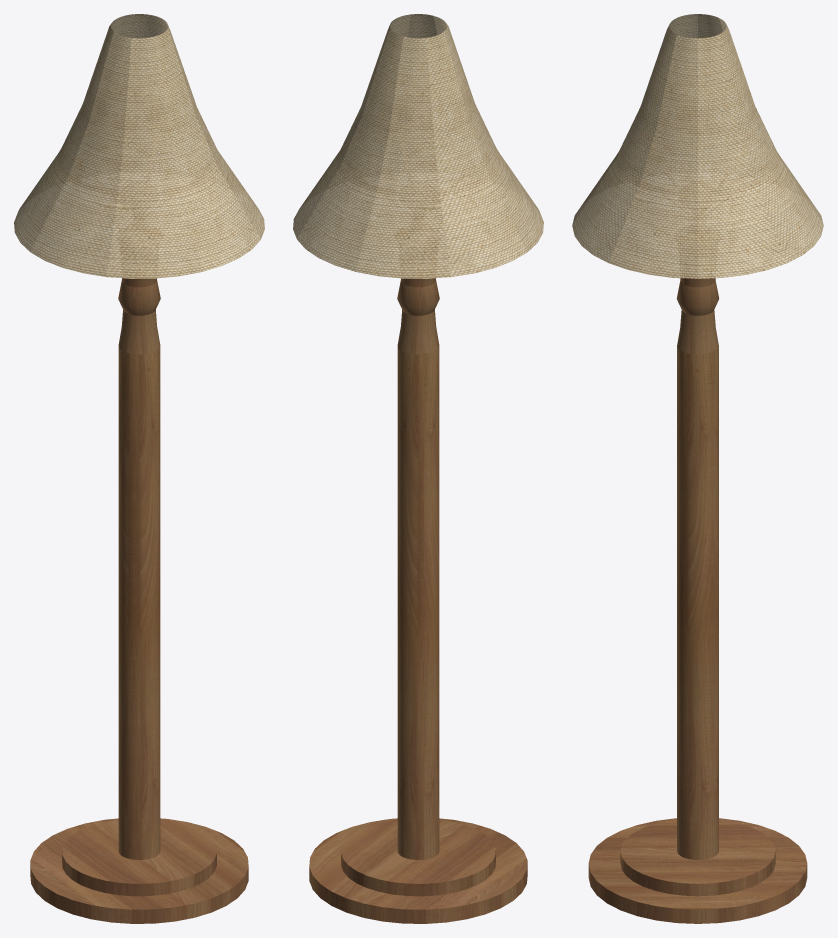
File: LampaPe.obj
3 renders of one model, left to right at view 1: azimuth 30°, elevation 25°; view 2: azimuth 150°, elevation 25°; view 3: azimuth 270°, elevation 25°, orthographic.
Parts seen in each view (by area): view 1: Cube.001; view 2: Cube.001; view 3: Cube.001.
Boxes of the visible parts, box(x1,y1,x2,y2) form: Cube.001: box(14, 14, 264, 923); Cube.001: box(293, 14, 543, 923); Cube.001: box(572, 14, 823, 923).
Bounding box in the file's own units: 0.6325 × 2.36 × 0.6325.
